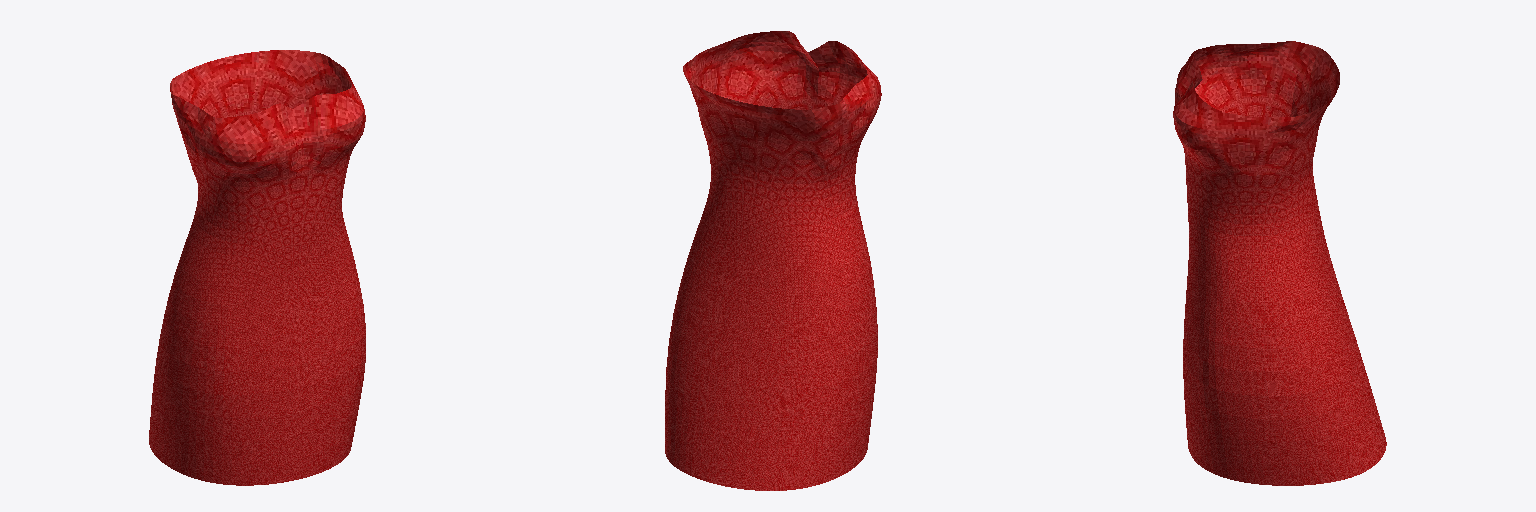
3 renders of one model, left to right at view 1: azimuth 30°, elevation 25°; view 2: azimuth 150°, elevation 25°; view 3: azimuth 270°, elevation 25°, orthographic.
Visible parts, largest first — view 1: Dress_Form.004; view 2: Dress_Form.004; view 3: Dress_Form.004.
Boxes of the visible parts, <box> form: Dress_Form.004: <box>149,50,365,485</box>; Dress_Form.004: <box>665,31,881,490</box>; Dress_Form.004: <box>1173,41,1386,485</box>.
Bounding box in the file's own units: 0.2536 × 0.4956 × 0.2535.
Materials: 1 (1 with a texture image).